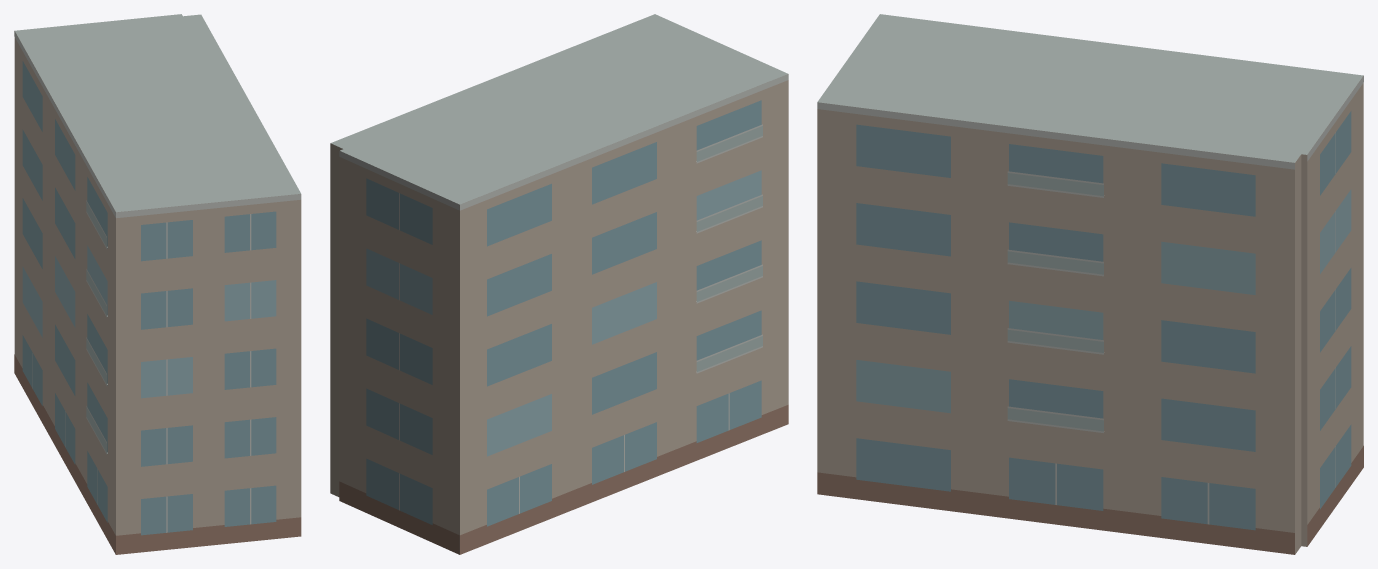
Rendered from survey-upis-32855708.glb.
3 views of the same model, side by side, from view 1: azimuth 30°, elevation 25°; view 2: azimuth 150°, elevation 25°; view 3: azimuth 270°, elevation 25° (orthographic). The views are drawn at different scales.
Parts seen in each view (by area): view 1: survey-upis-32855708.tmp; view 2: survey-upis-32855708.tmp; view 3: survey-upis-32855708.tmp.
Boxes of the visible parts, x1,y1,x2,y2 form: survey-upis-32855708.tmp: (14,14,301,554); survey-upis-32855708.tmp: (330,14,788,554); survey-upis-32855708.tmp: (817,14,1363,554).
Bounding box in the file's own units: 11.49 × 14.1 × 17.83.
